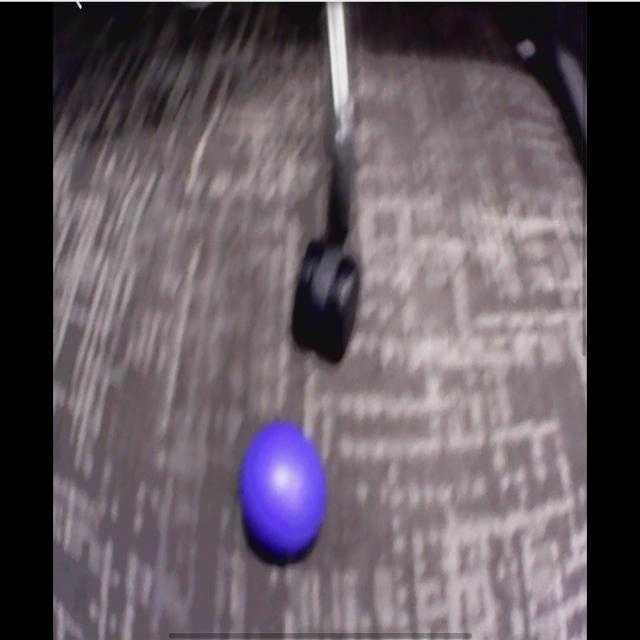ball: (242, 425, 325, 562)
